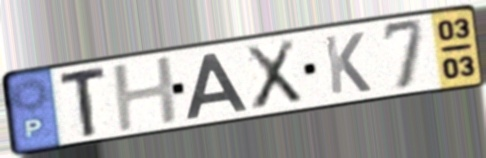7: (379, 17, 427, 93)
A: (184, 49, 251, 121)
H: (109, 53, 183, 135)
K: (321, 29, 374, 97)
T: (58, 63, 110, 141)
X: (242, 36, 306, 113)
